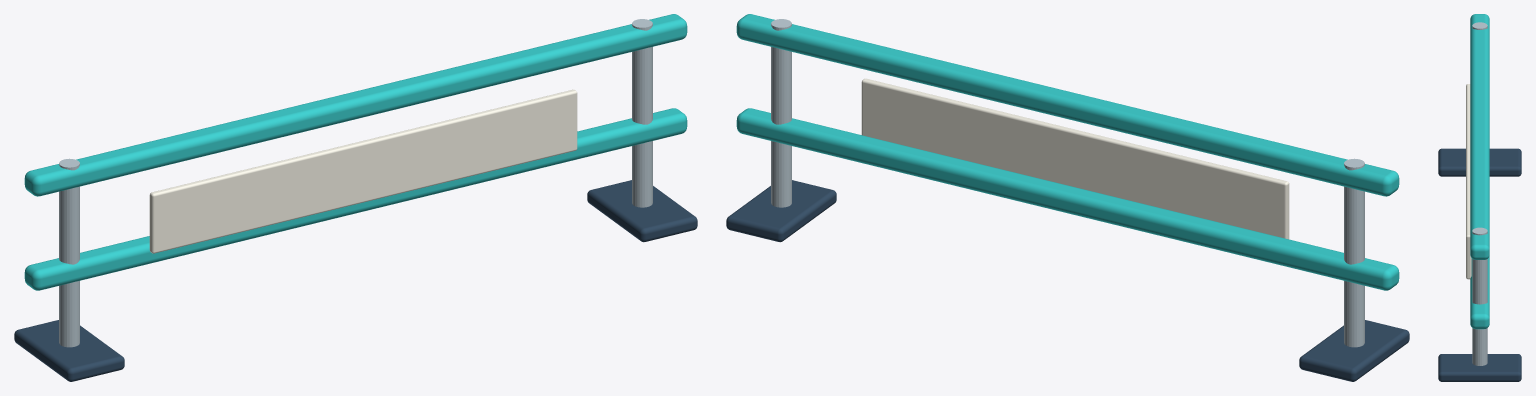
File: party-obstacle-course-party-obstacle-course-perimeter--29a8ce92__28947.glb
3 views of the same model, side by side, from view 1: azimuth 30°, elevation 25°; view 2: azimuth 150°, elevation 25°; view 3: azimuth 270°, elevation 25° (orthographic). The views are drawn at different scales.
Visible parts, largest first — view 1: party-obstacle-course-perimeter-barrier-straight; view 2: party-obstacle-course-perimeter-barrier-straight; view 3: party-obstacle-course-perimeter-barrier-straight.
Part boxes in pixels (x1,y1,x2,y2): party-obstacle-course-perimeter-barrier-straight: (14, 14, 697, 381); party-obstacle-course-perimeter-barrier-straight: (726, 14, 1409, 381); party-obstacle-course-perimeter-barrier-straight: (1438, 14, 1521, 381).
Size of the model in its own units: 4 by 1.13 by 0.6002.
